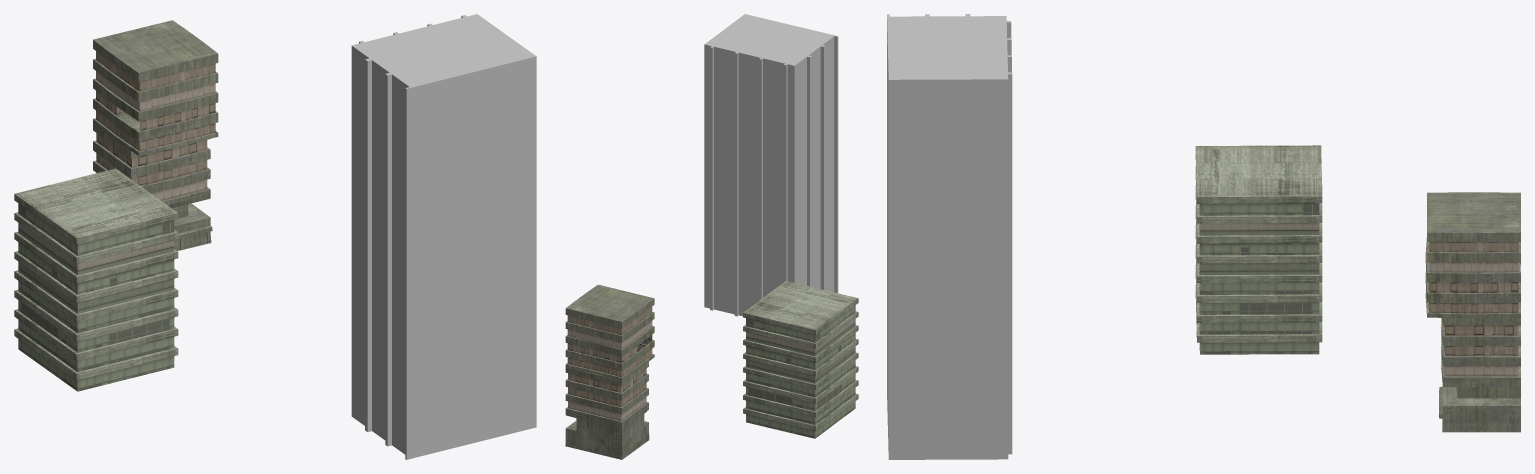
Rendered from SM_TheSamePlace_01_Building.fbx.
The picture shows the model from 3 angles, left to right: view 1: azimuth 30°, elevation 25°; view 2: azimuth 150°, elevation 25°; view 3: azimuth 270°, elevation 25°; orthographic projection. The views are drawn at different scales.
Parts seen in each view (by area): view 1: SM_TheSamePlace_01_Building; view 2: SM_TheSamePlace_01_Building; view 3: SM_TheSamePlace_01_Building.
Boxes of the visible parts, x1,y1,x2,y2 form: SM_TheSamePlace_01_Building: (14, 14, 536, 459); SM_TheSamePlace_01_Building: (565, 14, 858, 459); SM_TheSamePlace_01_Building: (887, 14, 1520, 459).
Size of the model in its own units: 7717 by 8787 by 13282.
